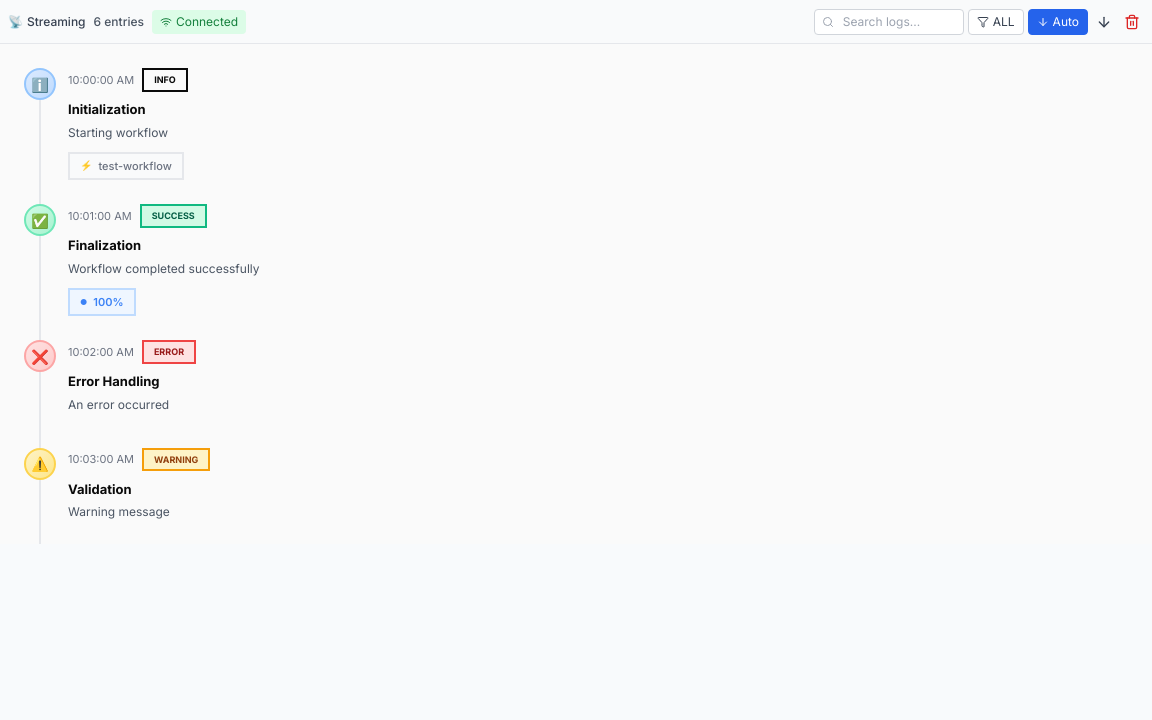
Test case: LiveLogsPanel Component › Search › should search logs by message
Type "error" into the field with placeholder "Search logs..." at (889, 22), box [814,9,964,35]
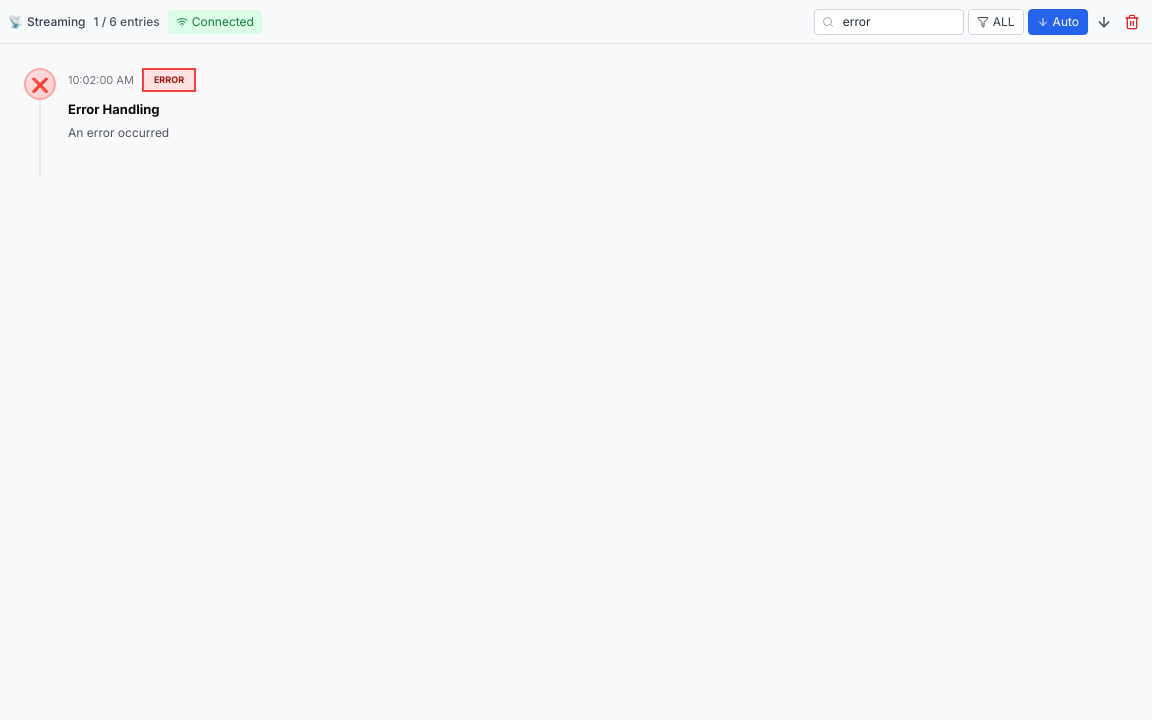
Check: the text "An error occurred" is shown, box [68,124,169,140]
Check: the text "Starting workflow" is gone
